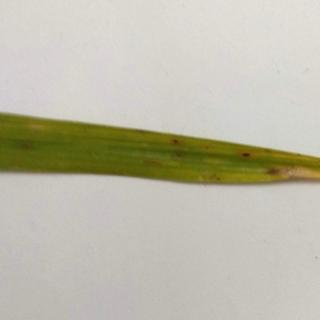bercak-Cokelat: (264, 163, 283, 179), (163, 133, 179, 149), (236, 149, 252, 164)
